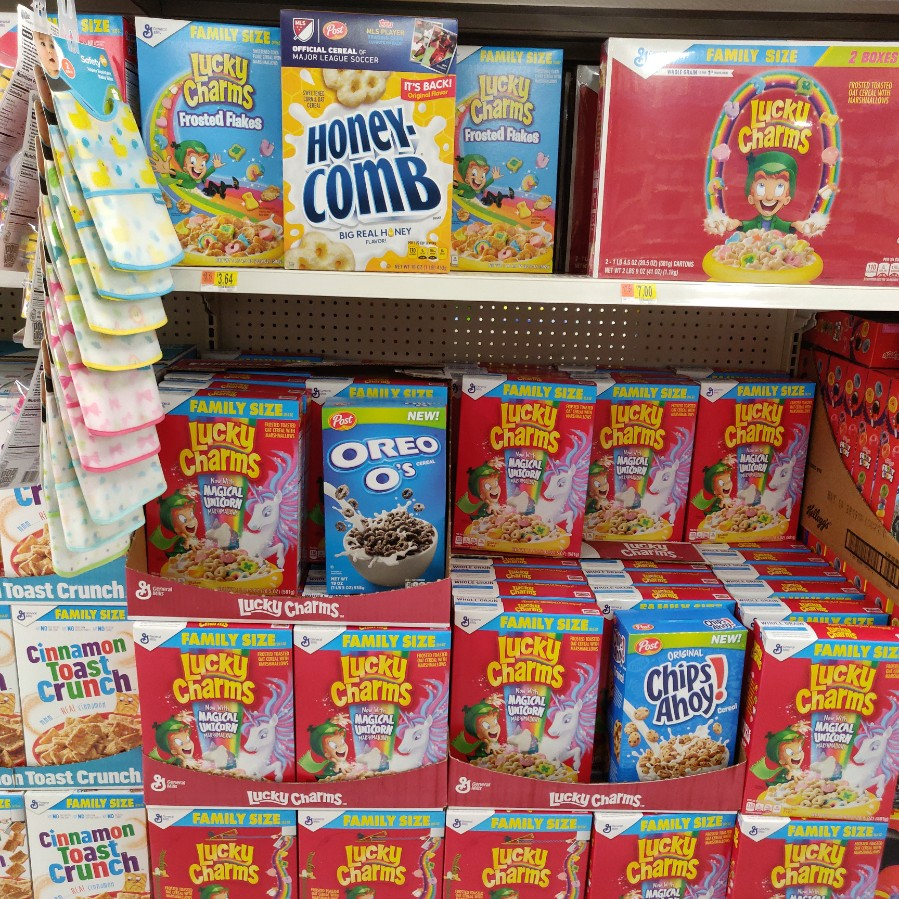Chips Ahoys-565717529: (610, 601, 743, 785)
Honey Comb- 009288857: (284, 10, 457, 272)
Oreo-563424384: (319, 400, 451, 601)
